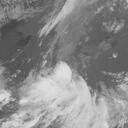cyclone: (30, 60, 91, 112)
